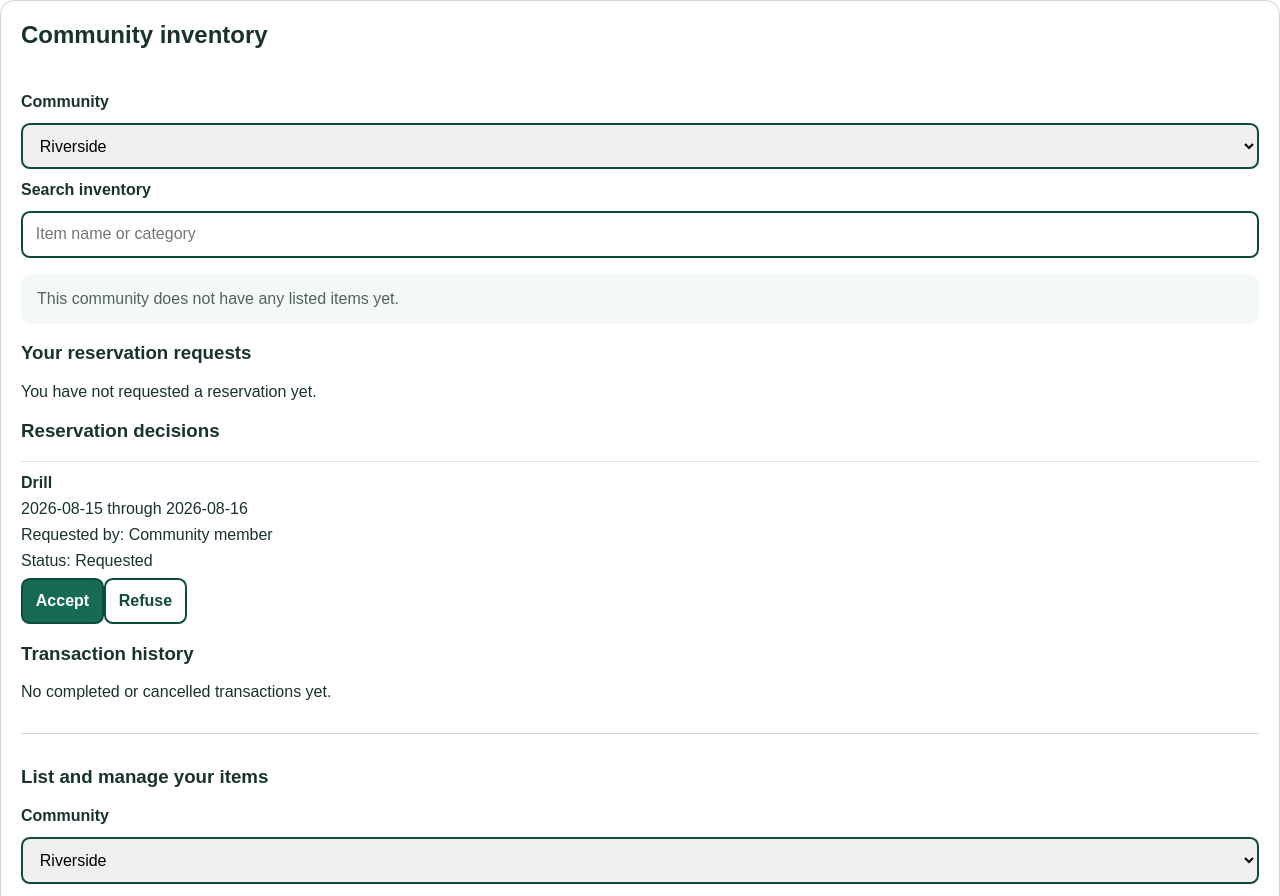
Test: ItemSection › presents a server conflict clearly and keeps the refreshed status
The image size is (1280, 896).
Click the button with aria-label "Accept reservation for Drill": (62, 601) [21, 578, 104, 624]
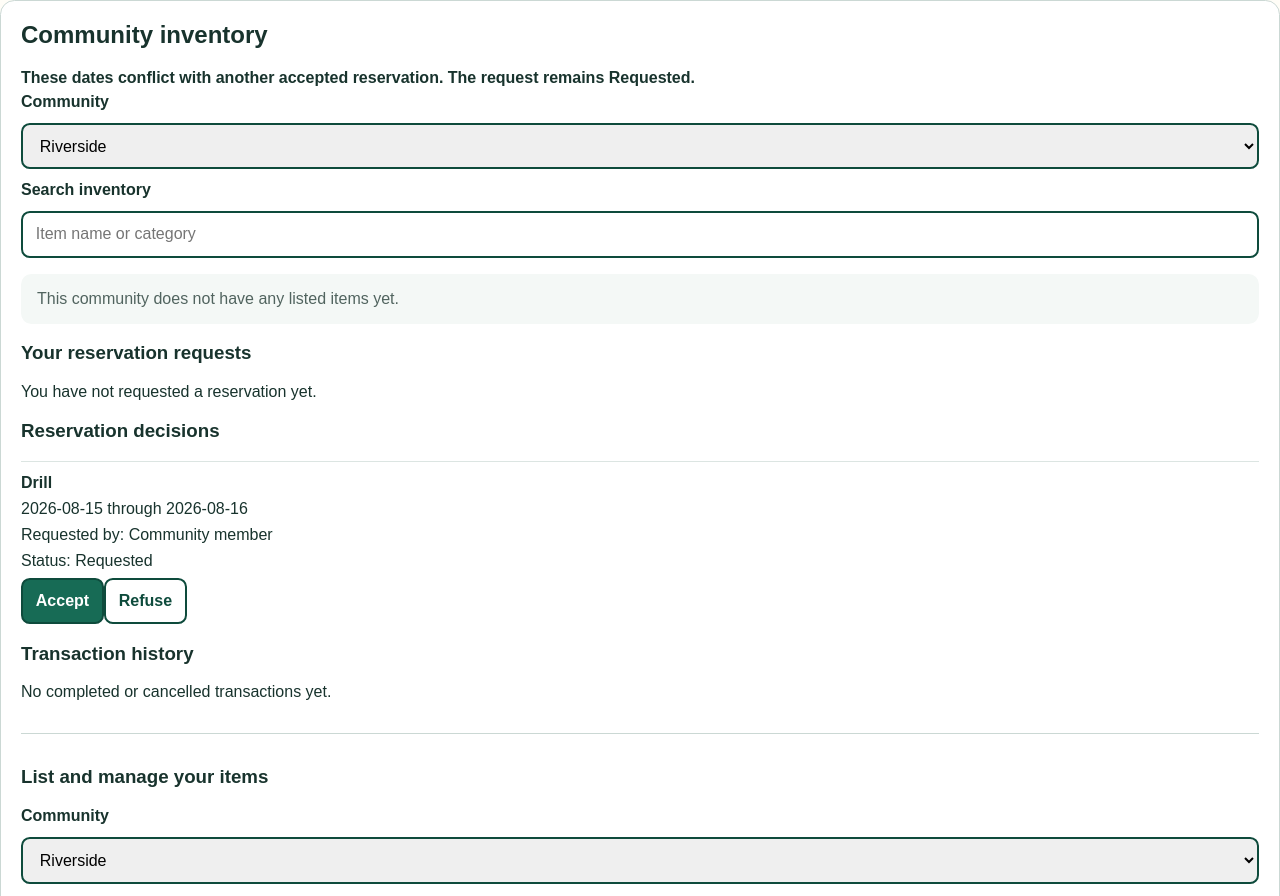
Expected: the text "Status: Requested" is shown, [21, 552, 153, 570]
Expected: the text "conflict with another accepted reservation" is shown, [21, 69, 695, 86]
